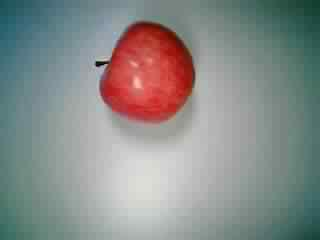apple: (93, 21, 197, 122)
